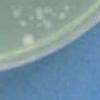white: (9, 4, 24, 18), (22, 33, 35, 46), (35, 6, 45, 21), (41, 6, 55, 16), (43, 18, 52, 28), (59, 13, 68, 21), (19, 19, 28, 26), (49, 11, 58, 17), (64, 5, 70, 12), (27, 15, 34, 20), (36, 24, 42, 29)
